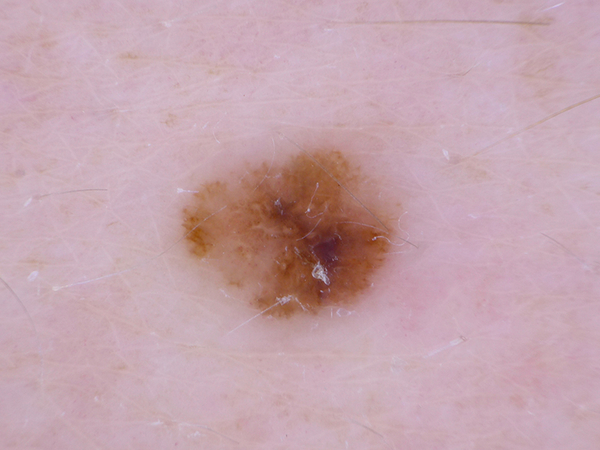Detected Lesion: (168, 129, 404, 329)
